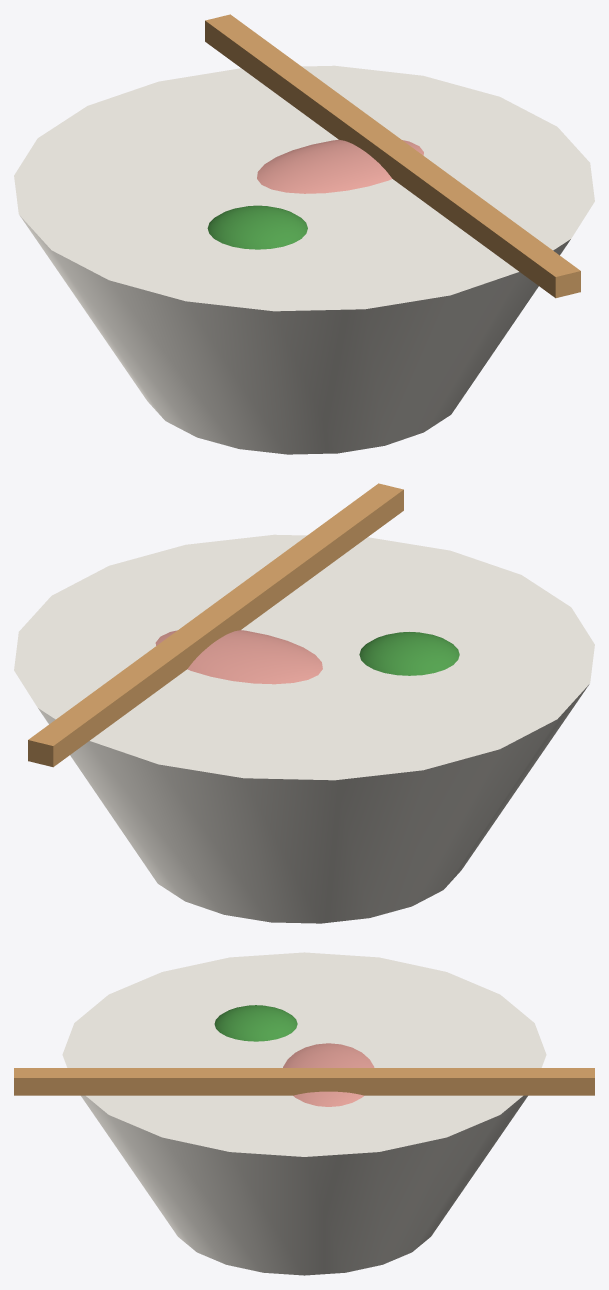
File: bowl.glb
3 views of the same model, one above another, from view 1: azimuth 30°, elevation 25°; view 2: azimuth 150°, elevation 25°; view 3: azimuth 270°, elevation 25° (orthographic). The views are drawn at different scales.
Visible parts, largest first — view 1: Bowl, Chop1, Beef, Herb; view 2: Bowl, Chop1, Beef, Herb; view 3: Bowl, Chop1, Beef, Herb.
Boxes of the visible parts, <box> form: Bowl: <box>14,65,594,454</box>; Chop1: <box>205,14,580,298</box>; Beef: <box>257,139,423,193</box>; Herb: <box>207,205,307,249</box>; Bowl: <box>14,534,594,923</box>; Chop1: <box>28,483,403,767</box>; Beef: <box>155,630,322,684</box>; Herb: <box>359,632,459,675</box>; Bowl: <box>62,952,546,1275</box>; Chop1: <box>14,1068,594,1095</box>; Beef: <box>283,1043,374,1106</box>; Herb: <box>214,1005,297,1041</box>.
Size of the model in its own units: 0.2 by 0.083 by 0.24.
